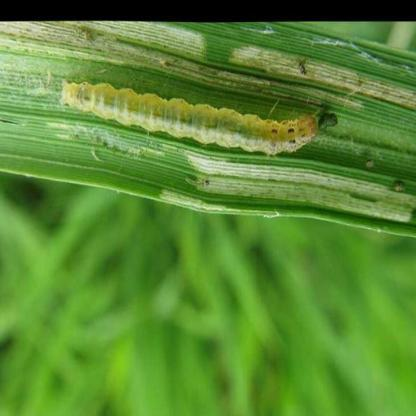leaf-folder: (41, 65, 341, 178)
